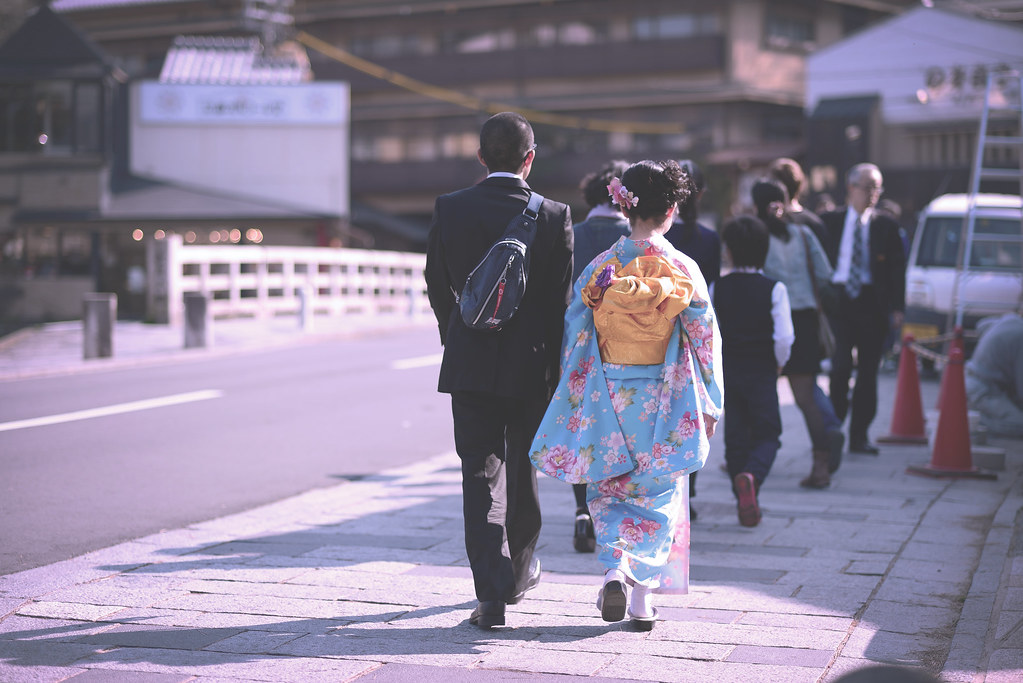person: (535, 157, 740, 636), (411, 98, 585, 631), (741, 164, 860, 493), (697, 210, 808, 537), (815, 159, 908, 460), (565, 169, 639, 245)
